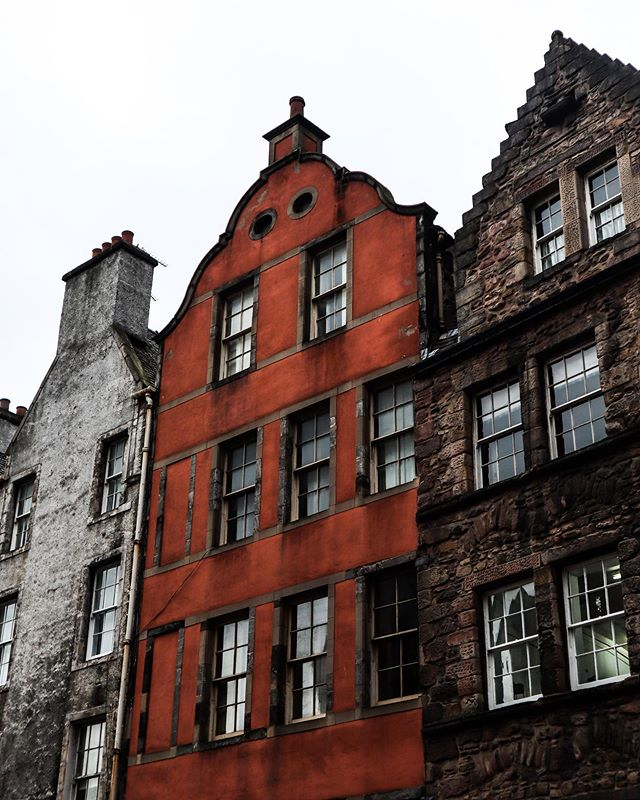building: (160, 143, 432, 799), (422, 39, 640, 796), (1, 241, 165, 800)
sky: (6, 3, 521, 227)
